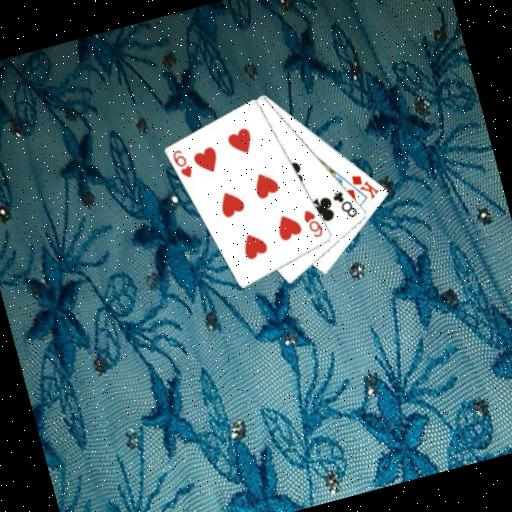6H: (298, 204, 326, 242), (168, 145, 195, 182)
8C: (328, 184, 360, 223)
KD: (347, 166, 382, 205)
